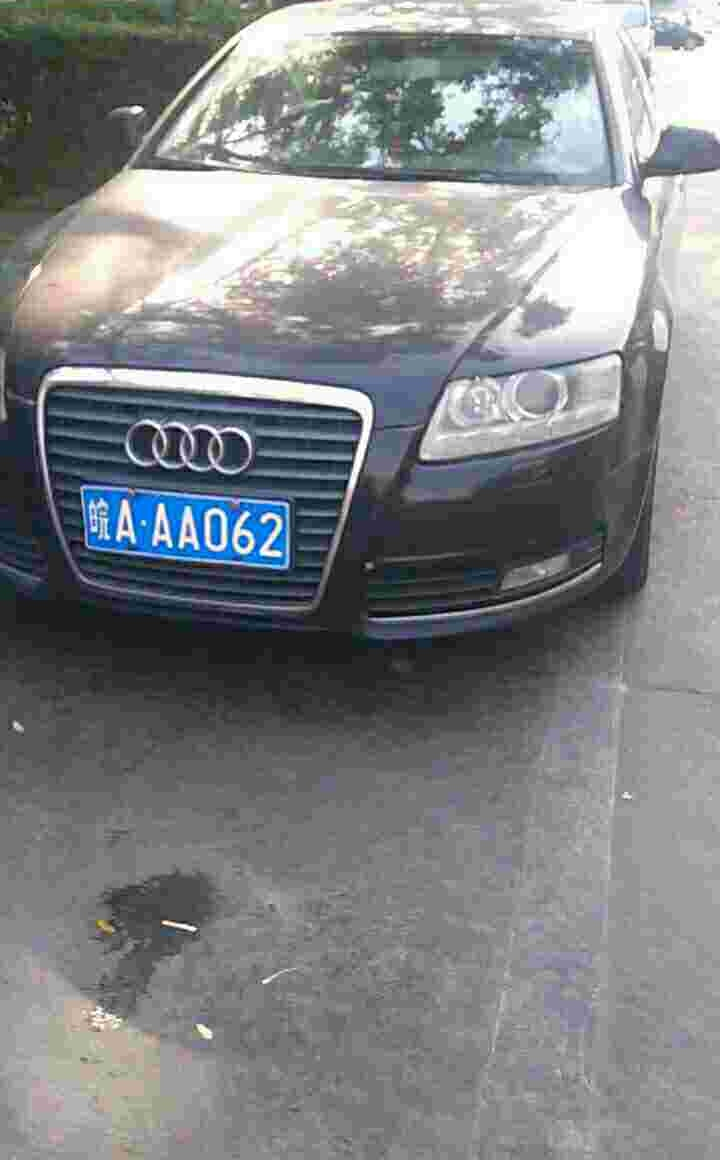license_plate: (67, 480, 307, 559)
